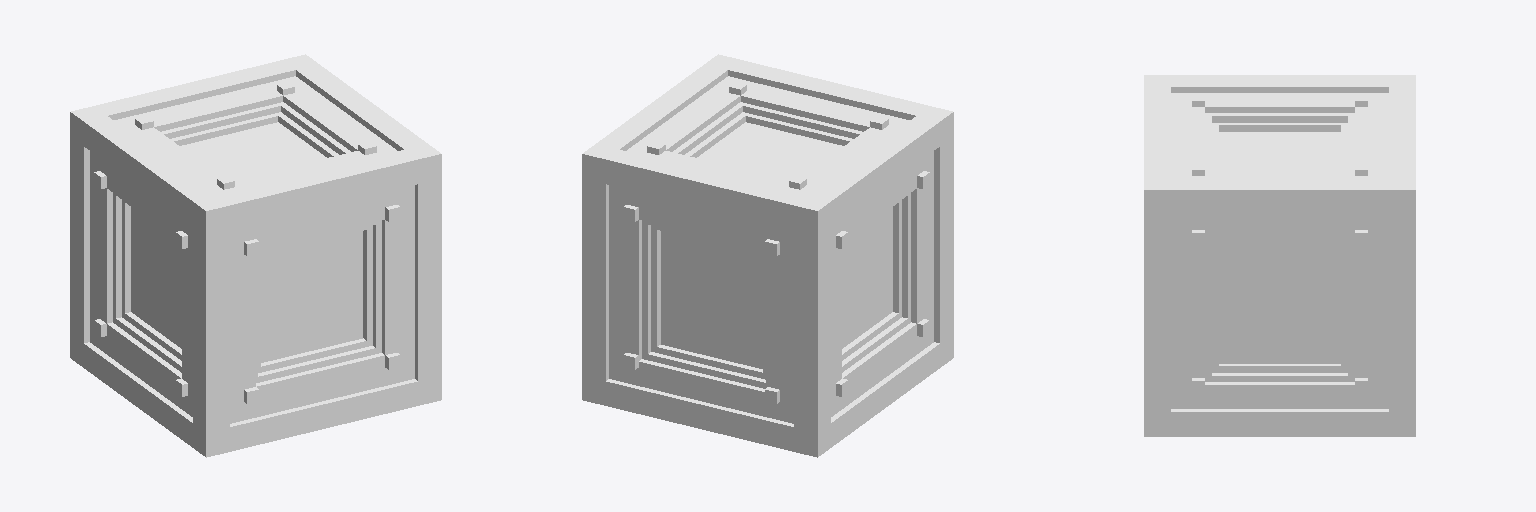
File: StageBlock3.obj
3 views of the same model, side by side, from view 1: azimuth 30°, elevation 25°; view 2: azimuth 150°, elevation 25°; view 3: azimuth 270°, elevation 25° (orthographic).
Visible parts, largest first — view 1: object 1; view 2: object 1; view 3: object 1.
Boxes of the visible parts, <box> form: object 1: <box>70,54,441,457</box>; object 1: <box>582,54,953,457</box>; object 1: <box>1144,75,1415,436</box>.
Size of the model in its own units: 4 by 4 by 4.